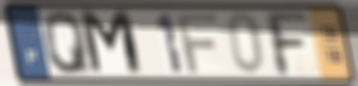0: (225, 10, 267, 78)
1: (155, 12, 186, 76)
F: (261, 9, 313, 79), (174, 12, 220, 75)
M: (77, 8, 147, 78)
Q: (40, 9, 96, 77)
